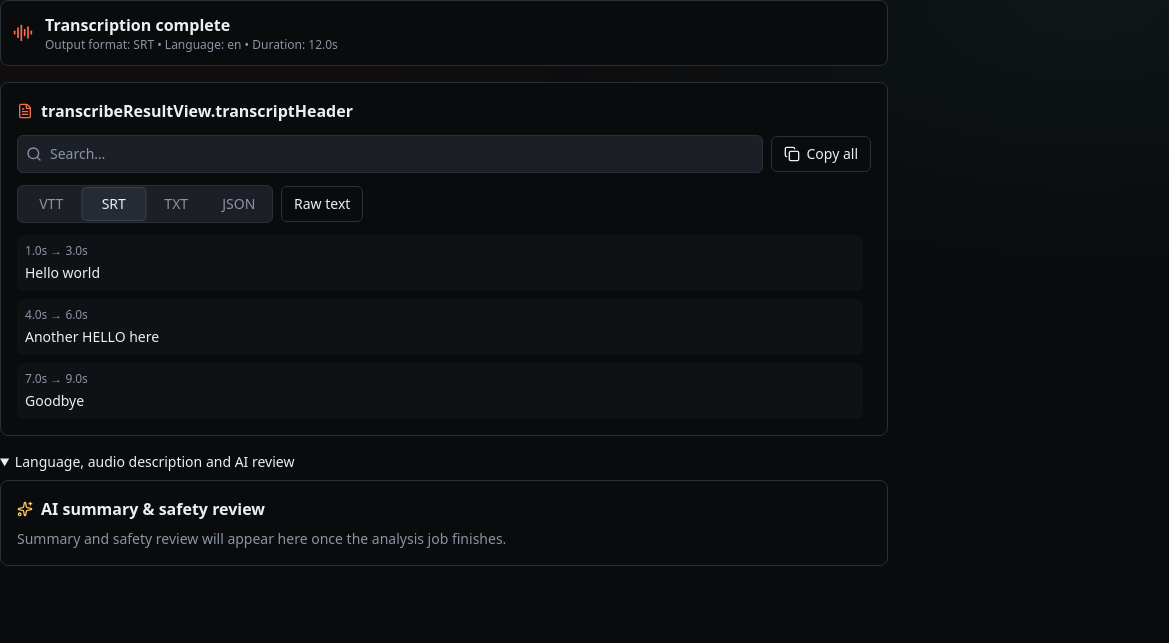
it: TranscriptView › format switch changes the raw preview
The image size is (1169, 643).
Click the button "Raw text" at (322, 204), box [281,186,363,222]
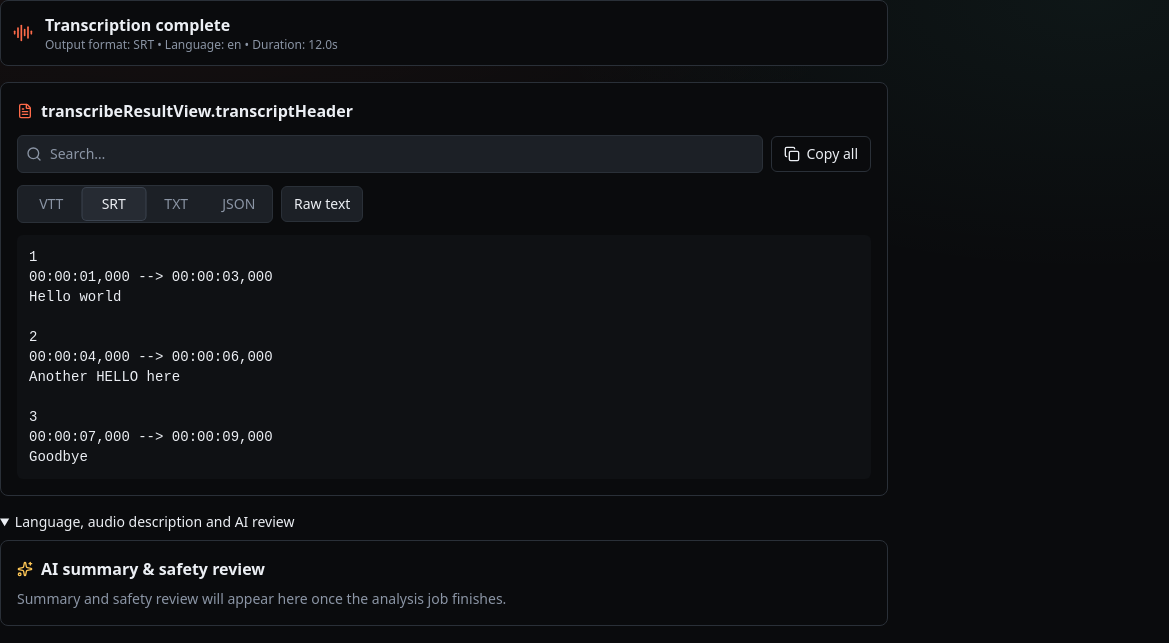
Result: the text with test id "transcript-raw" shows "00:00:01,000 --> 00:00:03,000" at [29,249,273,465]
Click the radio button labelled "VTT" at (51, 204), box [39,194,63,213]
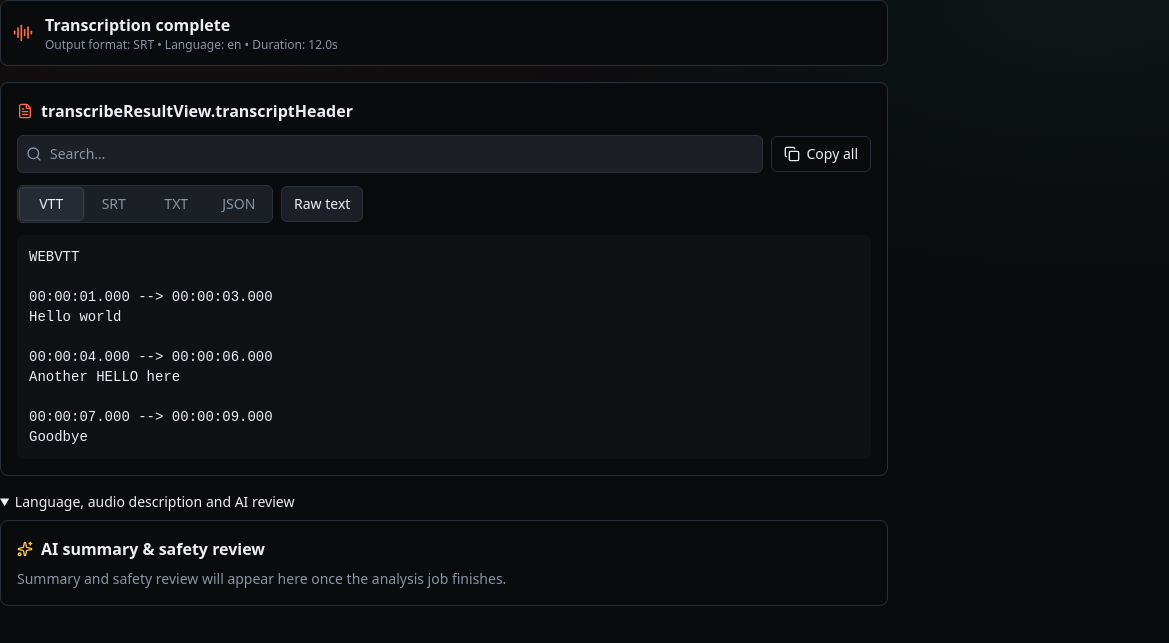
Result: the text with test id "transcript-raw" shows "WEBVTT" at [29,249,273,445]
